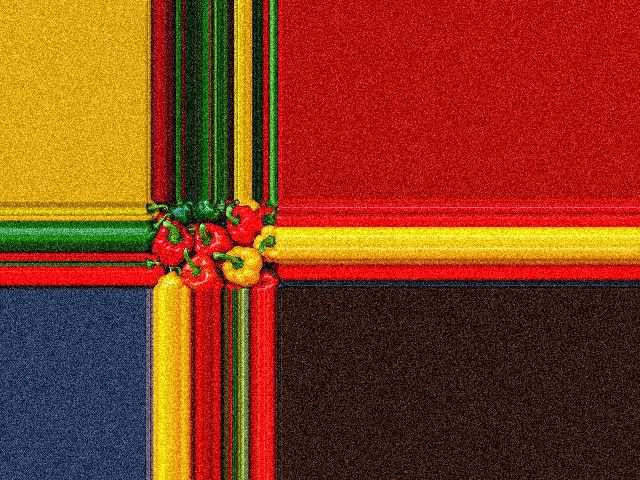bell_pepper: (158, 272, 181, 290)
